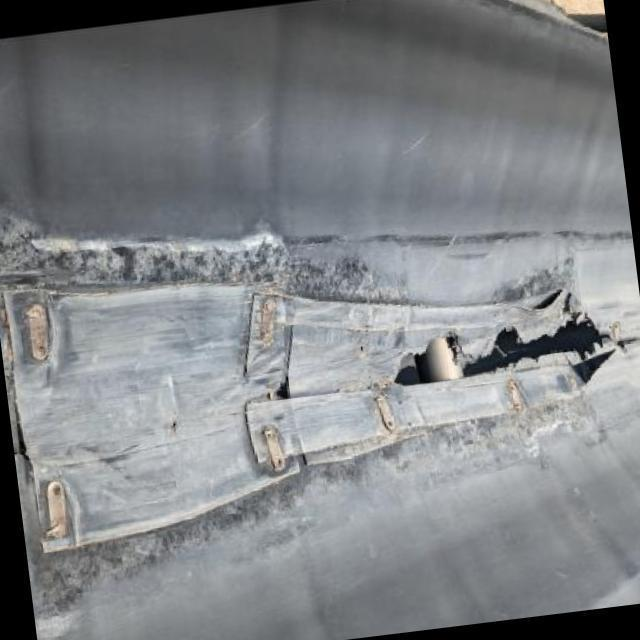Hole: (386, 284, 640, 390)
